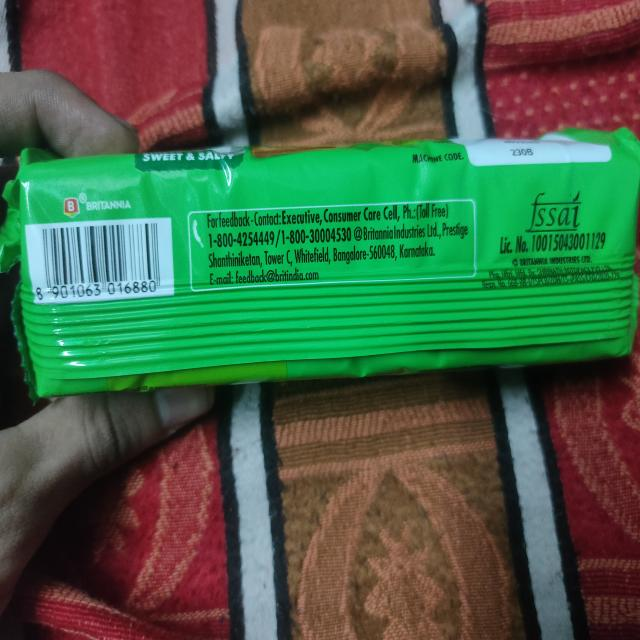biscuit: (0, 130, 640, 402)
